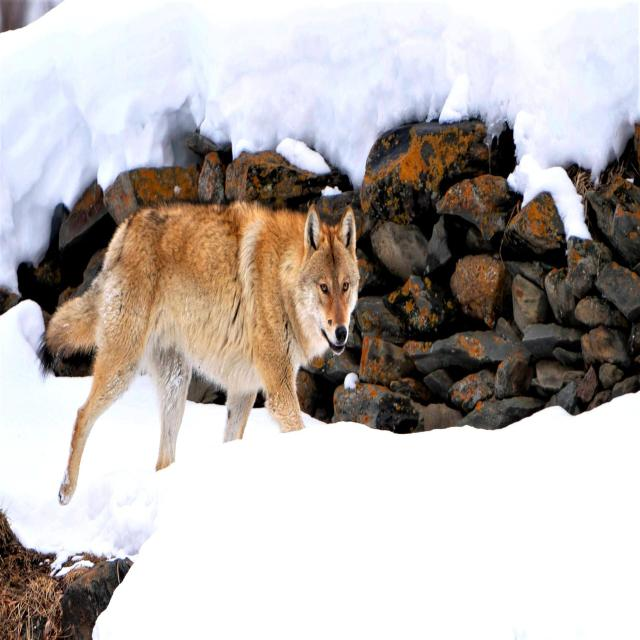Wolf: (41, 190, 365, 511)
